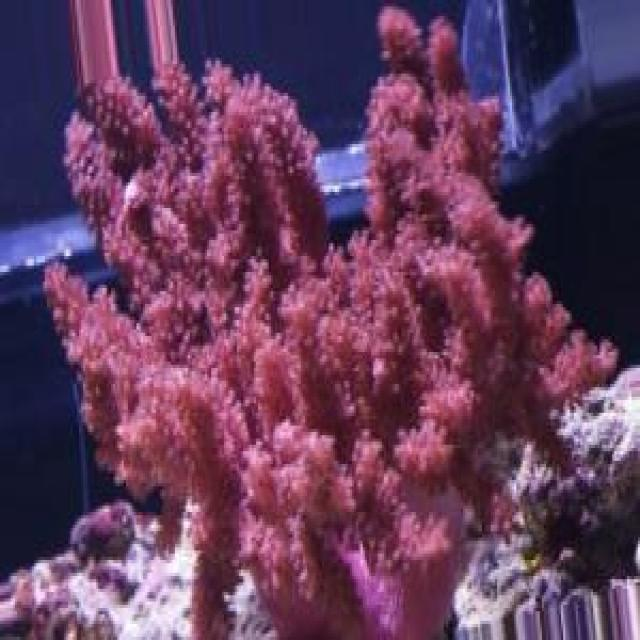healthy coral: (46, 11, 605, 638)
